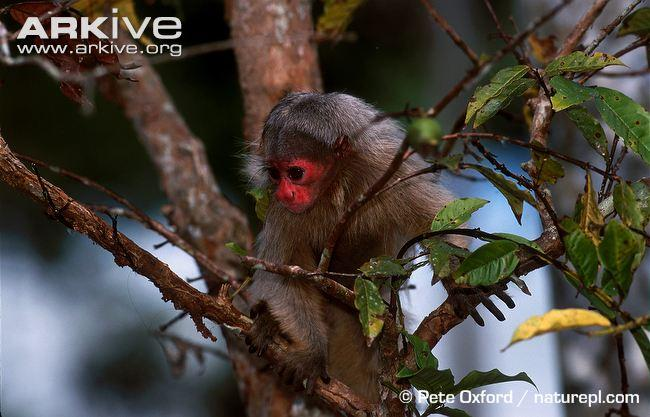monkey: (251, 93, 430, 392)
